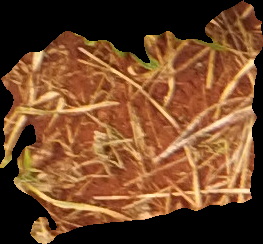soil: (3, 3, 262, 244)
